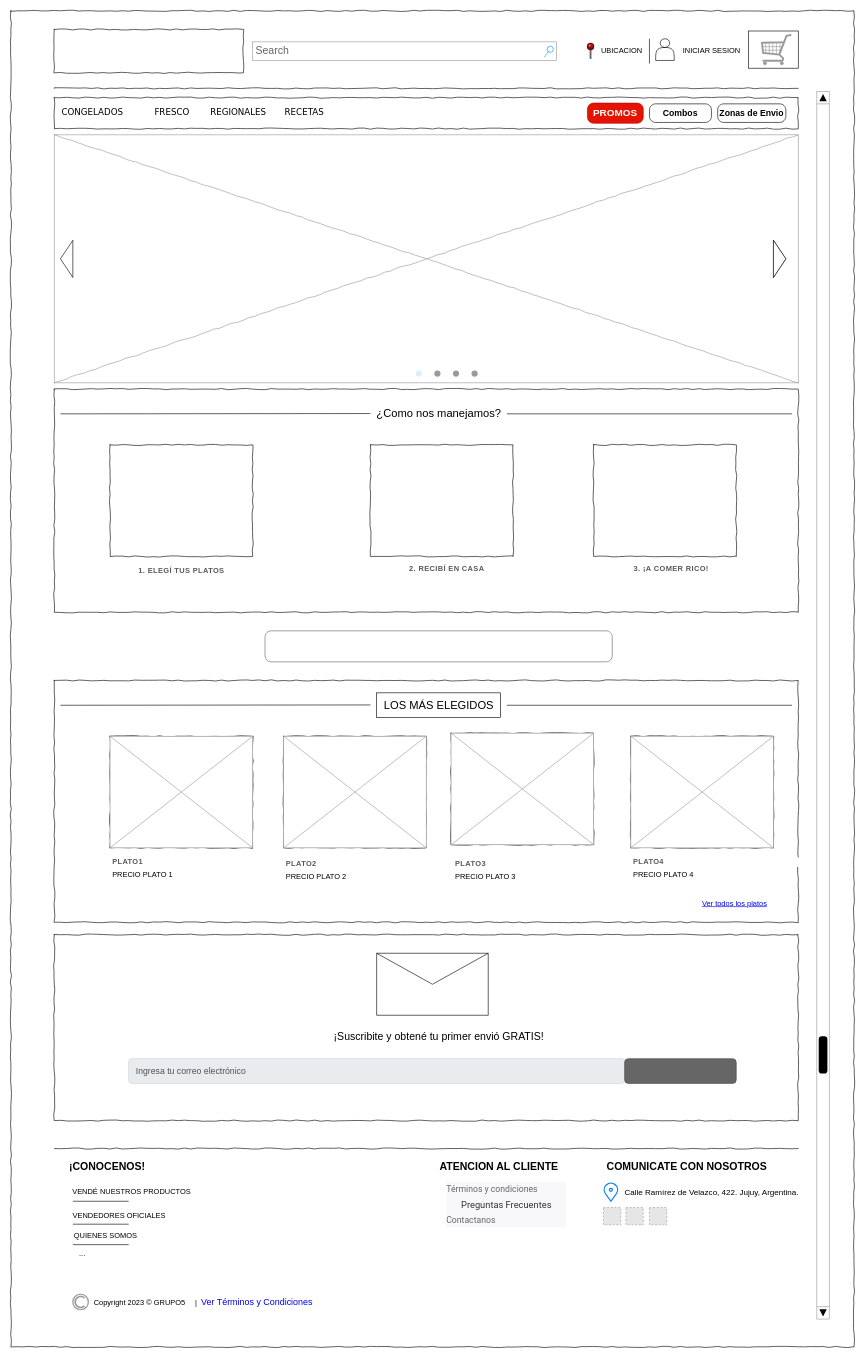
The diagram is 865 pixels wide and 1358 high, and some of its shapes have lost their labels. Grey dashed boxes stand in for pictures. The centre of each missing label's shape, as x and y in pixels:
CONOCÉ NUESTRO MENU: the point at 438,646
LOGO: the point at 148,51
SUSCRIBIRME: the point at 680,1070
